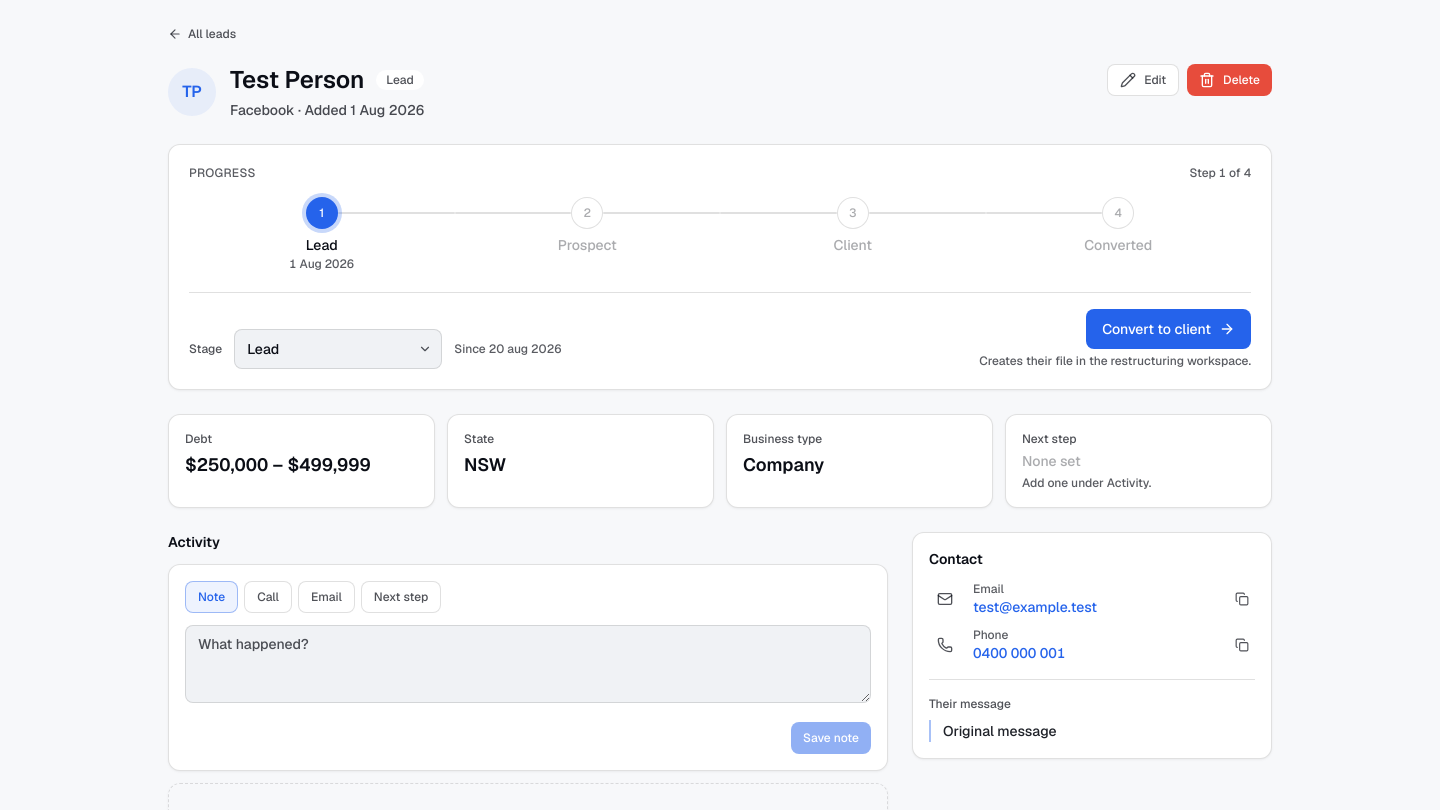
Test: Edit lead › refuses a typed debt it cannot read
Click the button "Edit" at (1143, 80), box [1107,64,1179,96]
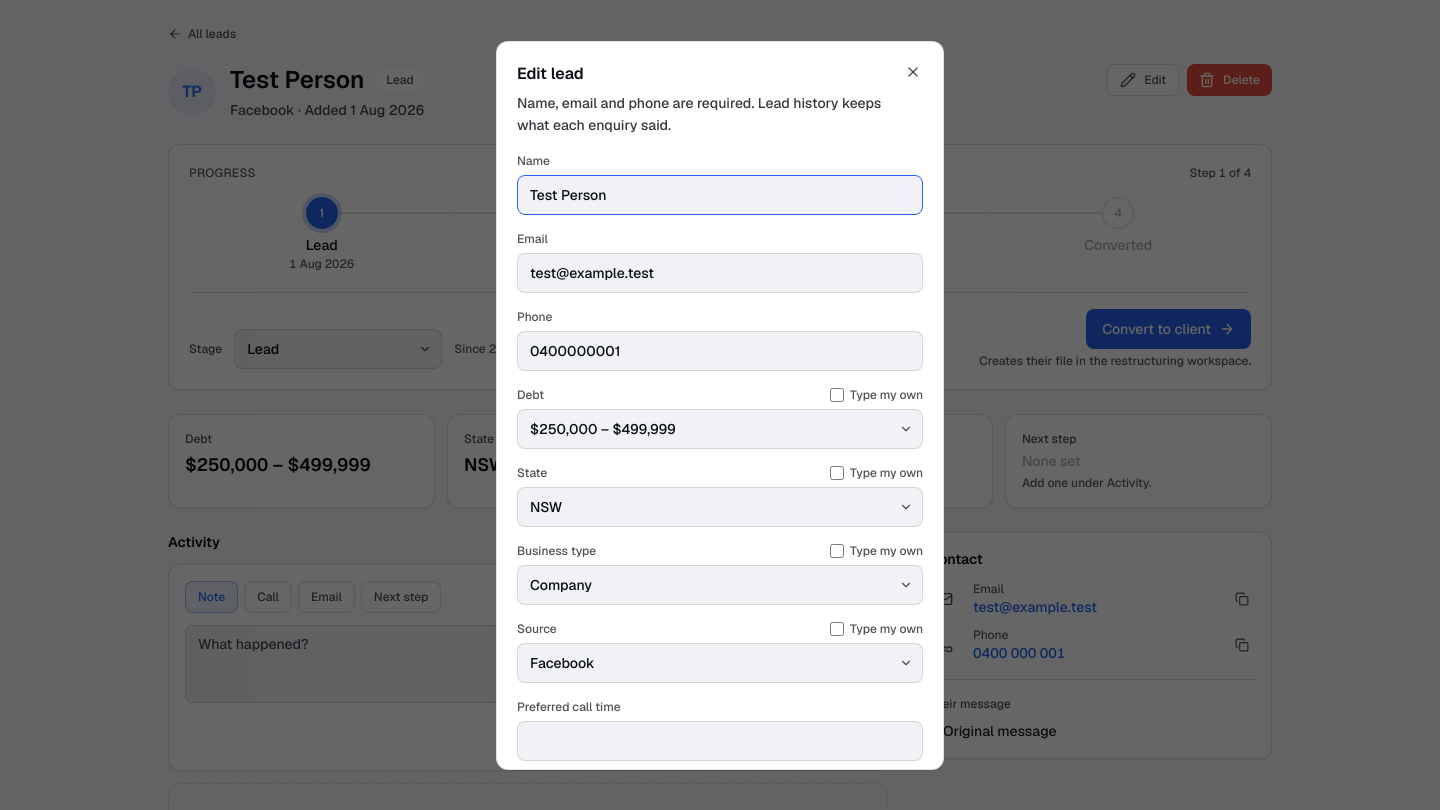
Click the checkbox named "Type my own debt" at (837, 395), box [830,388,844,402]
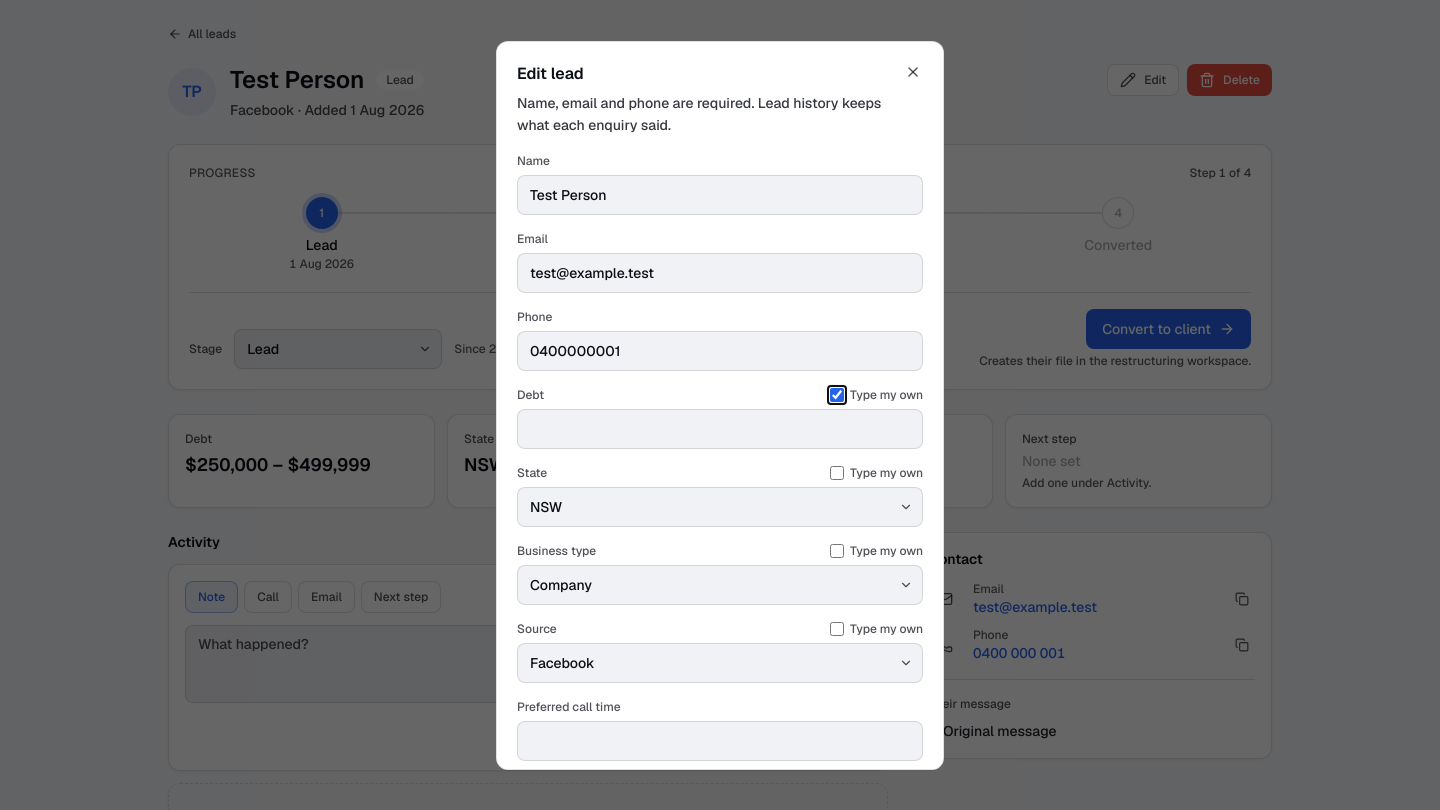
Type "lots" into the field labelled "Debt" at (720, 429), box [517,409,923,449]
(page scrolled)
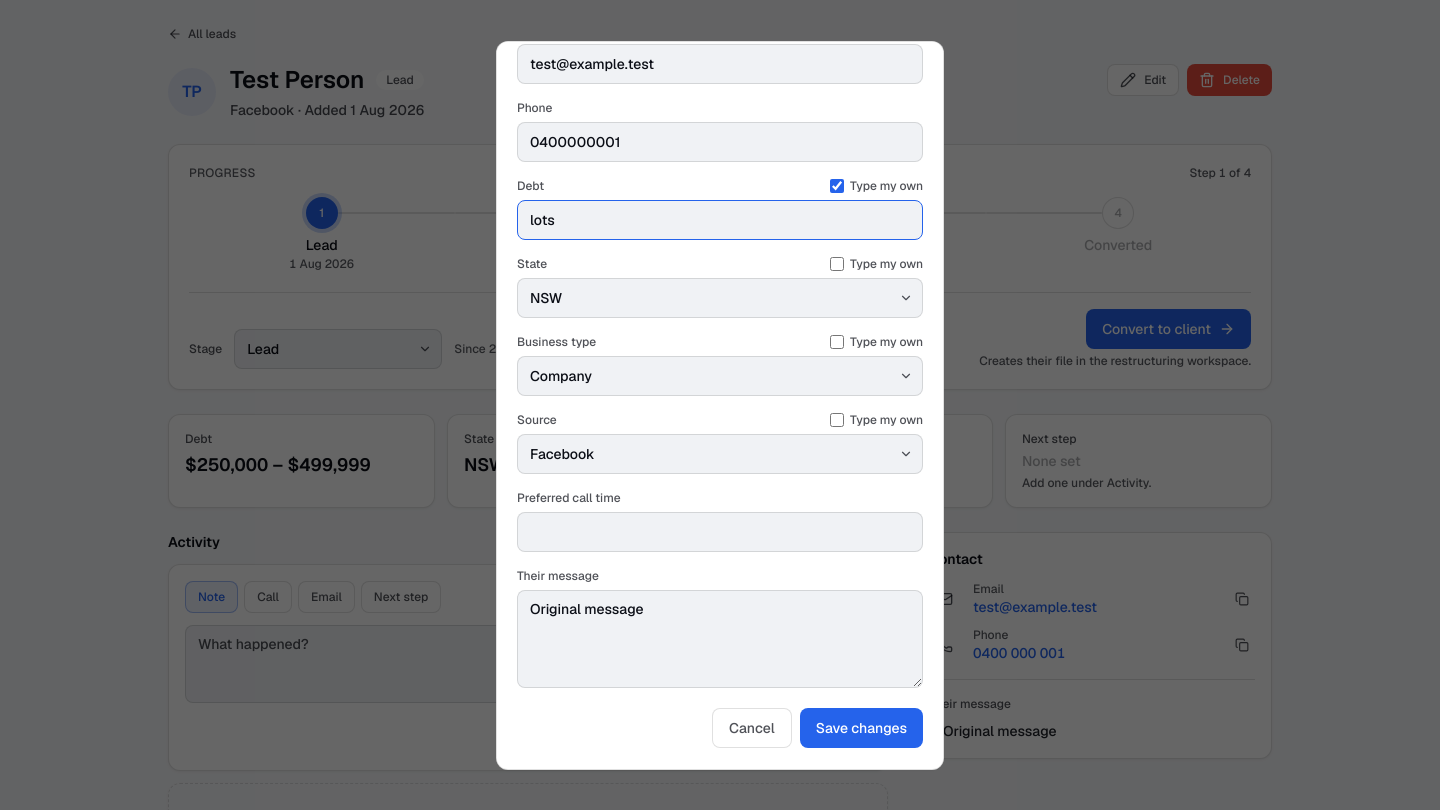
Click the button "Save changes" at (861, 728), box [800,708,923,748]
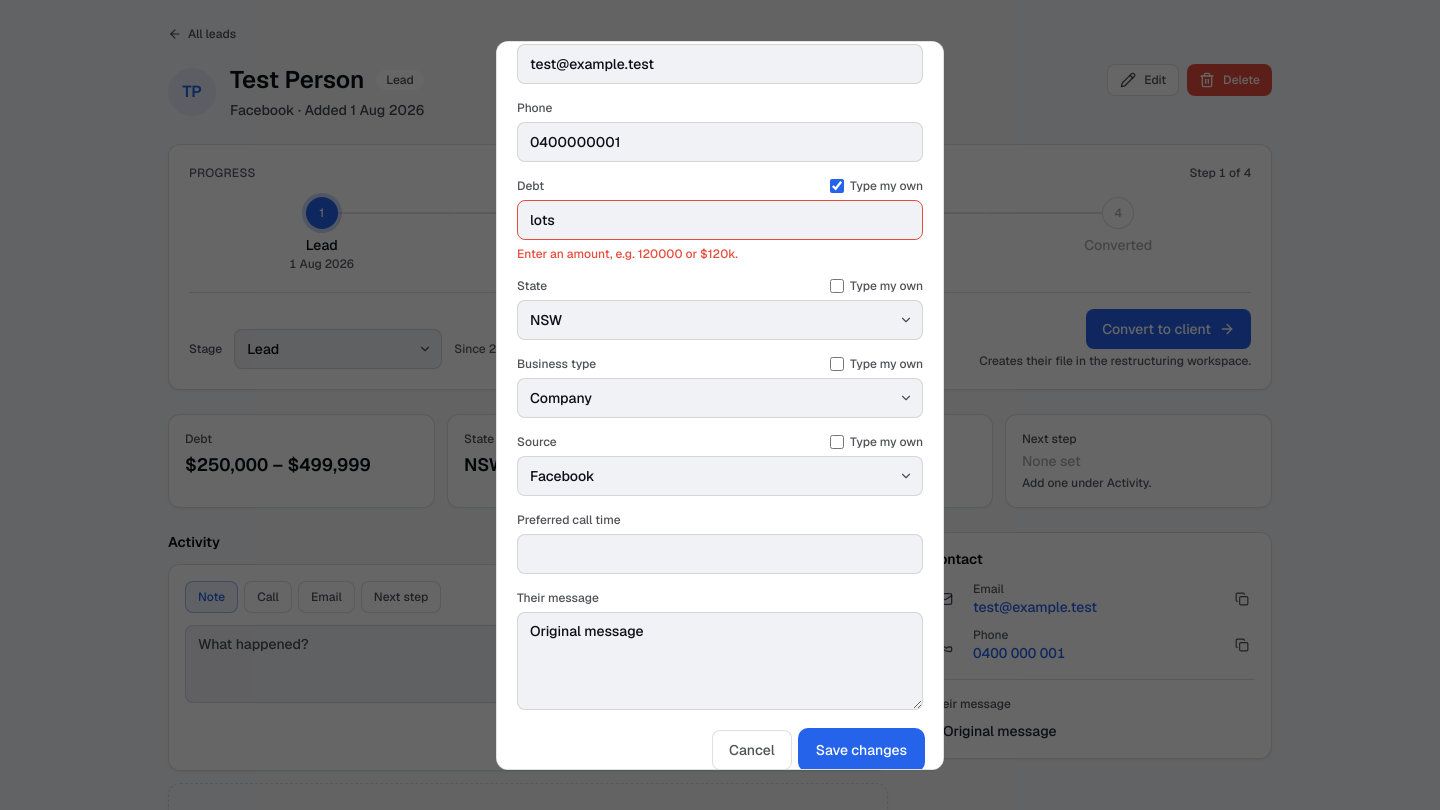
Expected: the text "Enter an amount, e.g. 120000 or $120k." is shown, [517,246,738,262]
